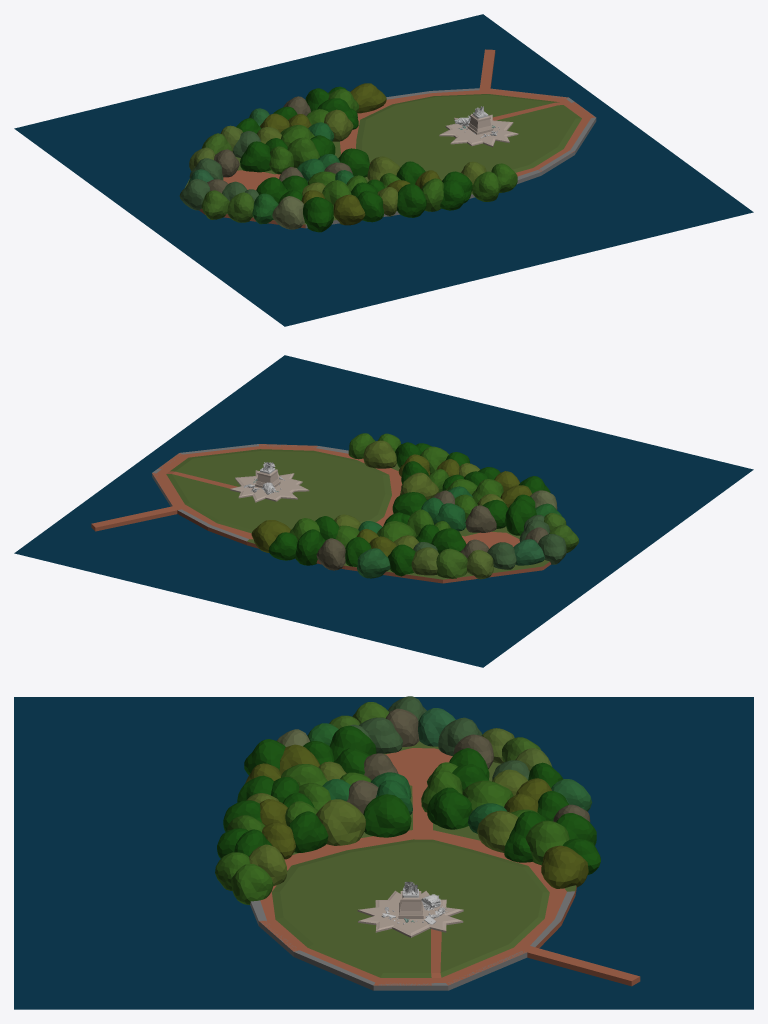
The model's file is EstatLib_fase4.fbx.
3 renders of one model, top to bottom at view 1: azimuth 30°, elevation 25°; view 2: azimuth 150°, elevation 25°; view 3: azimuth 270°, elevation 25°, orthographic. The views are drawn at different scales.
Visible parts, largest first — view 1: agua, isla, Base.001, Arbusto_020, Arbusto_023.001, Arbusto_017, Arbusto_930, Arbusto_010, Arbusto_047, Arbusto_004, Arbusto_004.001, Arbusto_011.001 (+10 smaller); view 2: agua, isla, Base.001, Arbusto_944.001, Arbusto_040.001, Arbusto_023, Arbusto_940, Arbusto_012, Arbusto_031.001, Arbusto_047, Arbusto_031.002, Arbusto_003 (+10 smaller); view 3: agua, isla, Base.001, Arbusto_003, Arbusto_943, Arbusto_047, Arbusto_018, Arbusto_920, Arbusto_033, Arbusto_021, Arbusto_941, Arbusto_017.001 (+33 smaller).
Boxes of the visible parts, x1,y1,x2,y2 form: agua: (14, 14, 753, 326); isla: (185, 49, 596, 228); Base.001: (439, 113, 518, 147); Arbusto_020: (303, 197, 333, 232); Arbusto_023.001: (272, 196, 304, 229); Arbusto_017: (397, 183, 426, 217); Arbusto_930: (240, 141, 270, 172); Arbusto_010: (333, 194, 365, 225); Arbusto_047: (350, 83, 386, 113); Arbusto_004: (472, 171, 501, 201); Arbusto_004.001: (227, 192, 254, 222); Arbusto_011.001: (179, 179, 210, 210); agua: (14, 355, 753, 667); isla: (91, 444, 550, 583); Base.001: (230, 469, 309, 502); Arbusto_944.001: (436, 548, 467, 578); Arbusto_040.001: (357, 548, 390, 578); Arbusto_023: (363, 440, 396, 468); Arbusto_940: (295, 529, 325, 565); Arbusto_012: (505, 499, 536, 535); Arbusto_031.001: (316, 538, 345, 570); Arbusto_047: (251, 520, 291, 552); Arbusto_031.002: (465, 505, 496, 532); Arbusto_003: (400, 472, 438, 499); agua: (14, 697, 753, 1009); isla: (250, 741, 640, 990); Base.001: (357, 890, 463, 937); Arbusto_003: (316, 799, 365, 845); Arbusto_943: (363, 794, 411, 837); Arbusto_047: (541, 845, 588, 888); Arbusto_018: (231, 863, 273, 904); Arbusto_920: (430, 791, 471, 829); Arbusto_033: (288, 811, 328, 852); Arbusto_021: (477, 810, 518, 852); Arbusto_941: (525, 820, 569, 865); Arbusto_017.001: (359, 717, 402, 753).
Bounding box in the file's own units: 14709 × 1100 × 14709.
